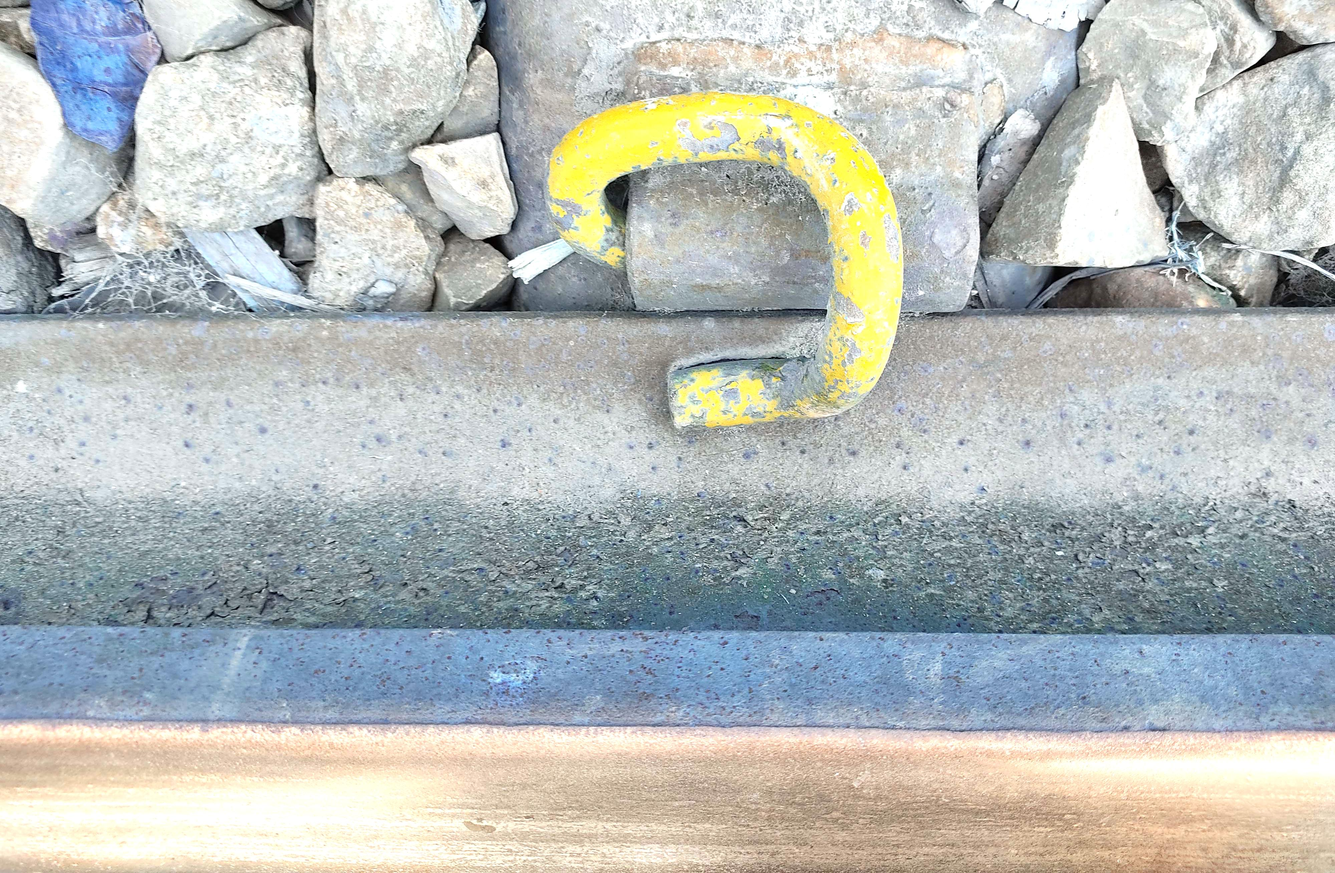Poor contact: (547, 78, 991, 451)
